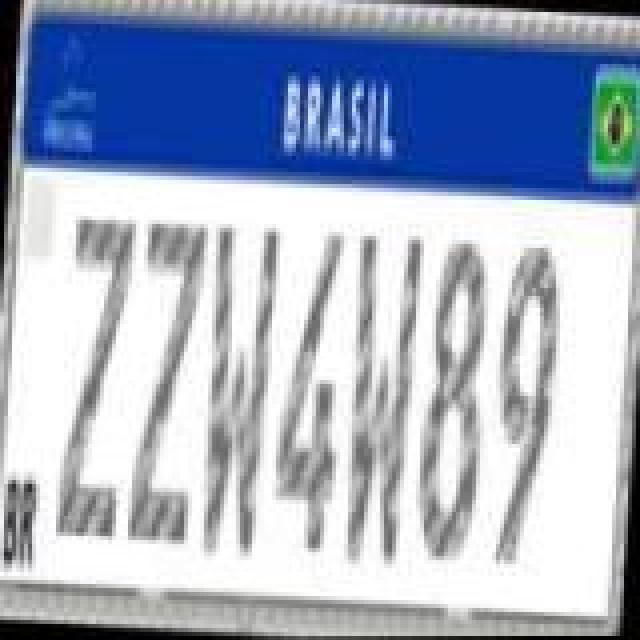4: (268, 226, 352, 554)
8: (412, 234, 496, 566)
9: (484, 234, 568, 566)
W: (336, 230, 428, 578), (196, 216, 280, 560)
Z: (124, 214, 208, 550), (52, 214, 136, 546)
